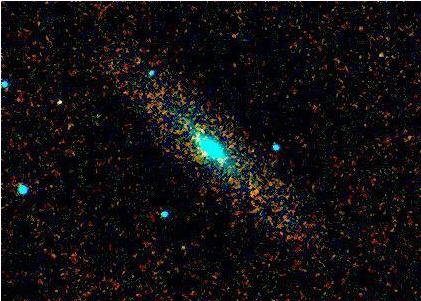star: (44, 86, 74, 116)
